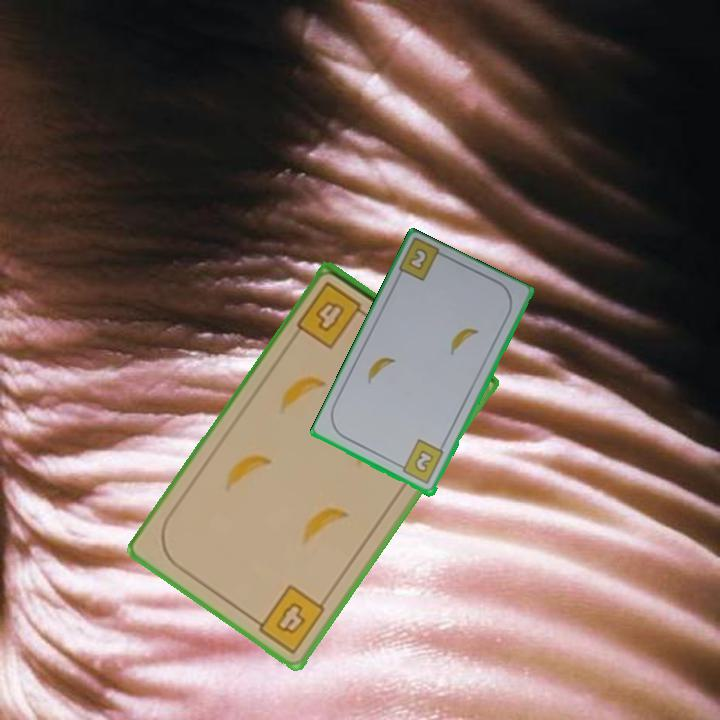2b: (394, 436, 447, 487), (407, 247, 429, 271)
4b: (247, 581, 329, 657), (293, 278, 374, 352)
